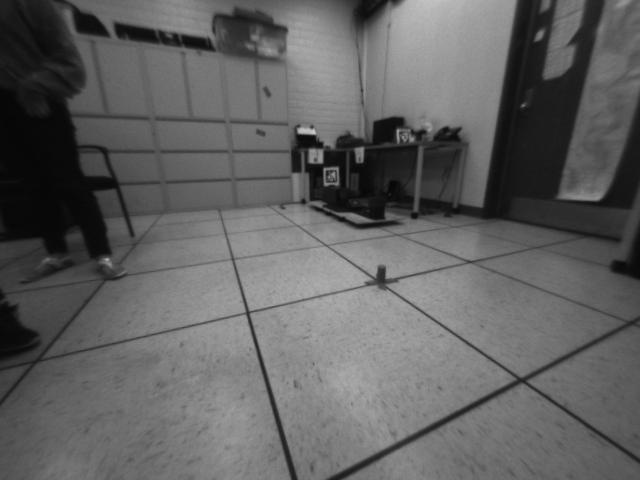X: (364, 263, 400, 291)
